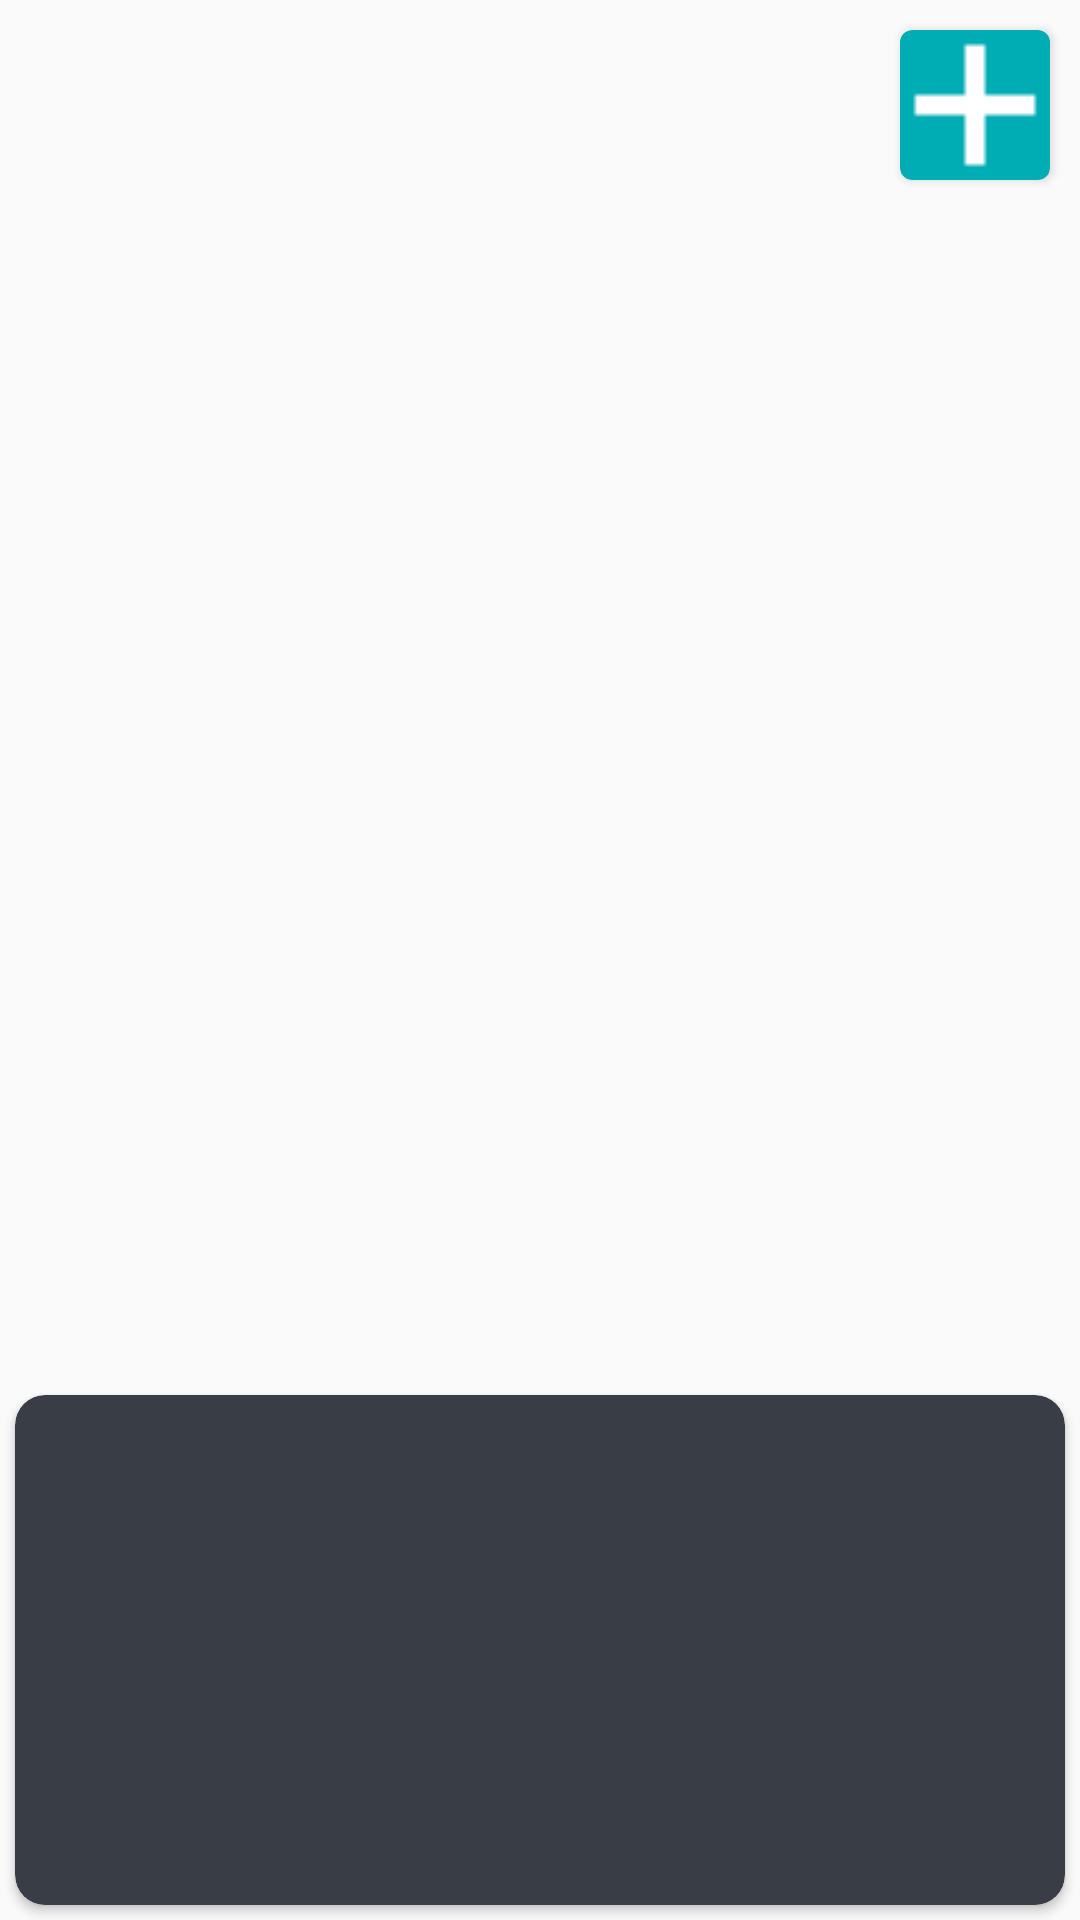

Where to tap for icons on this 1080x1920 app screen, as (x=x, y=y):
add: (x=975, y=105)
